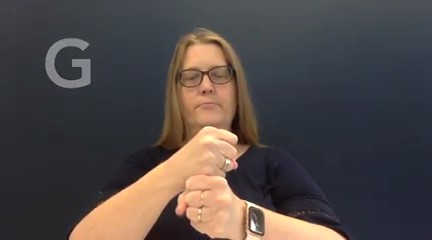G: (173, 125, 260, 240)
